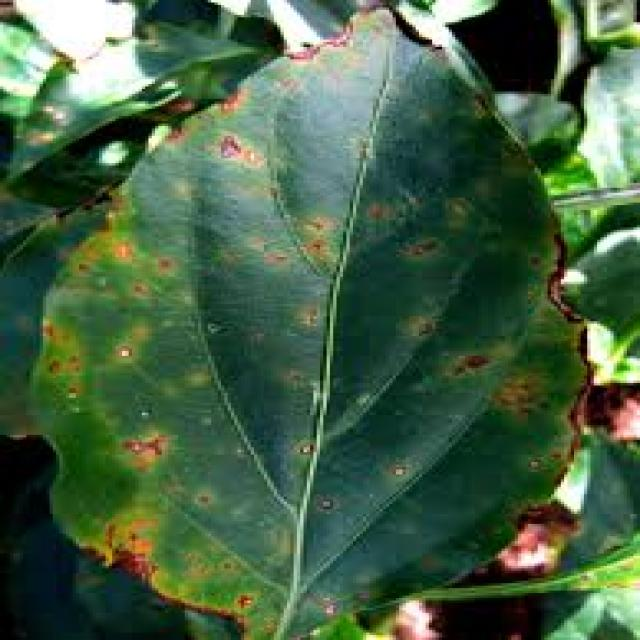bercak_daun: (36, 6, 600, 618)
